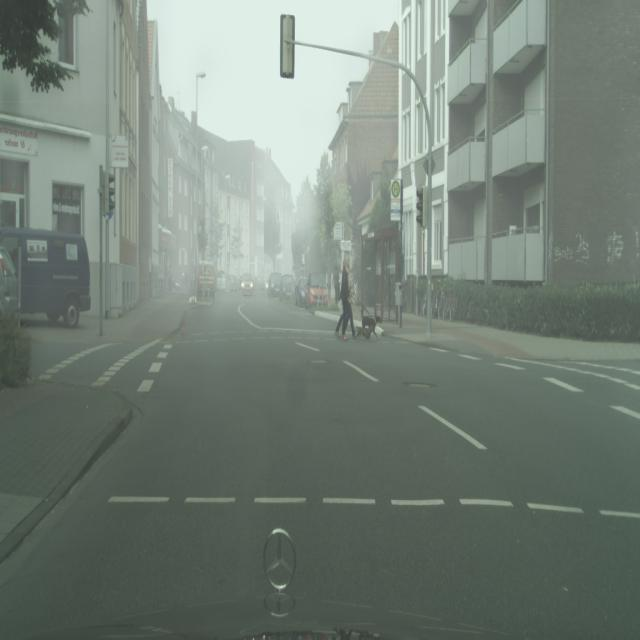person: (337, 257, 357, 341)
train: (1, 228, 92, 328)
truck: (0, 246, 19, 322), (308, 274, 329, 307), (196, 264, 215, 297), (294, 275, 308, 308), (279, 274, 295, 302), (267, 272, 282, 298), (240, 276, 254, 296), (216, 269, 227, 291), (228, 275, 238, 290)
